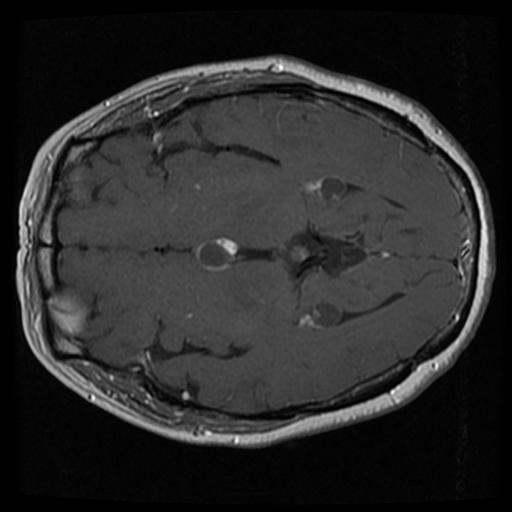pituitary tumour: (191, 236, 240, 274)
